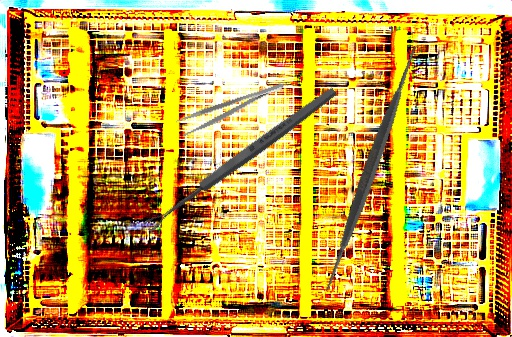Dressing Forceps: (175, 80, 289, 138)
Spatula Surgical: (246, 41, 497, 296)
Surgical Spoon: (142, 84, 339, 234)
